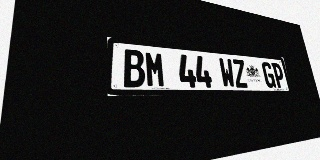4: (177, 54, 197, 88), (194, 55, 213, 88)
B: (123, 49, 146, 87)
G: (261, 62, 276, 88)
M: (144, 51, 166, 87)
P: (271, 63, 286, 88)
W: (218, 58, 236, 88)
Z: (231, 59, 248, 88)
